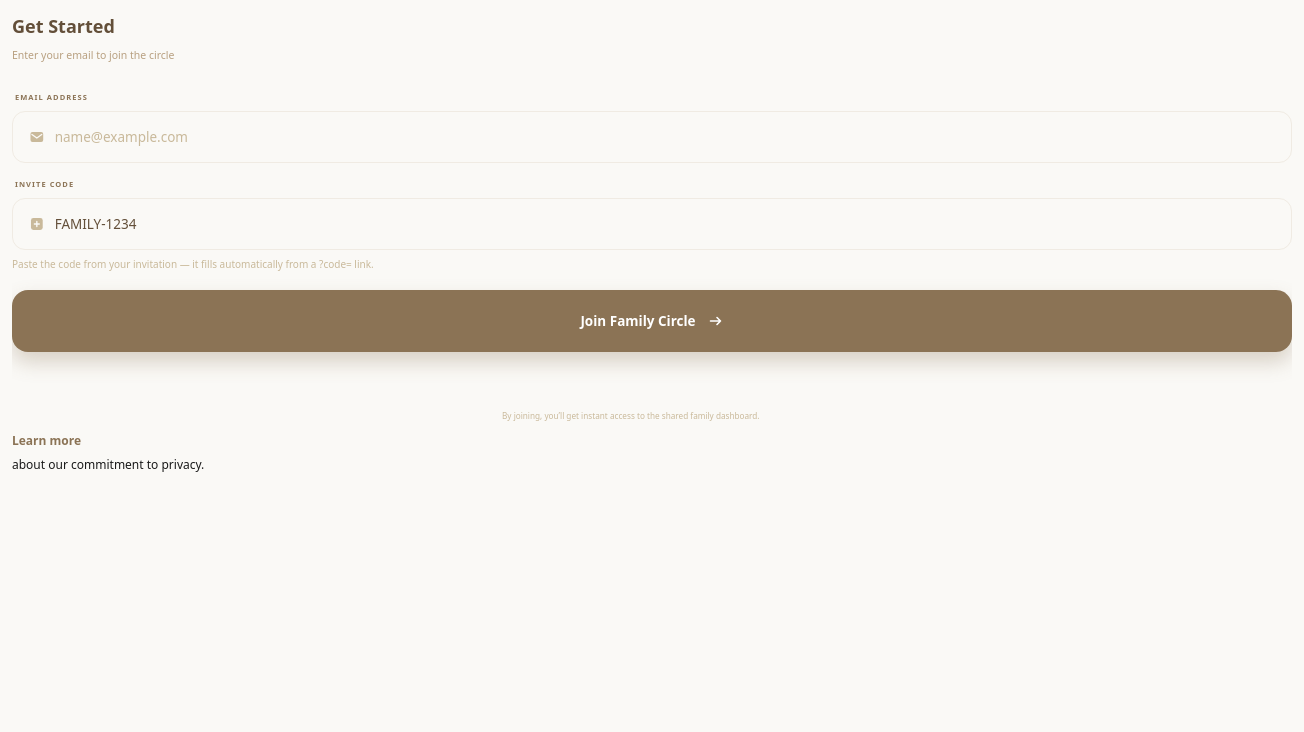
Test: JoinFamilyForm › submits successfully with a valid email and code
The image size is (1304, 732).
In the field labelled "EMAIL ADDRESS": (665, 137) x1=55 y1=112 x2=1275 y2=162, type "ada@example.com"
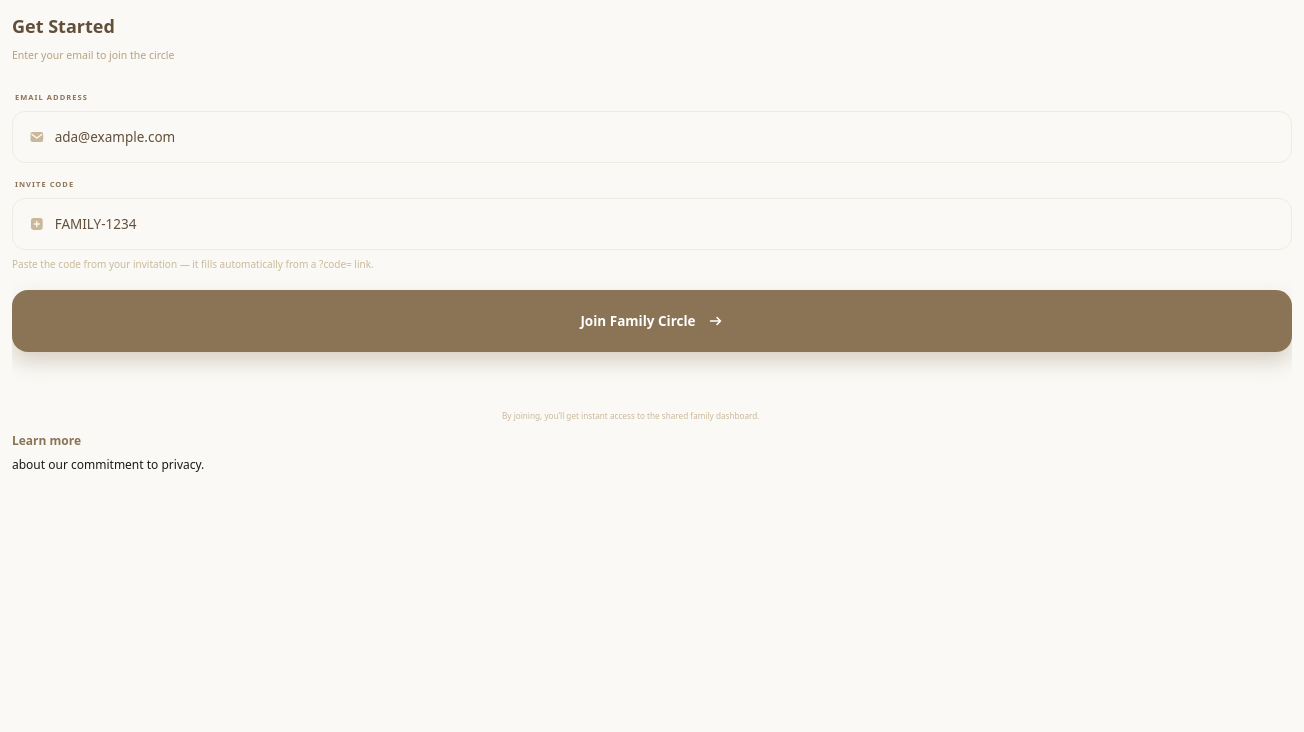
Click the button "Join Family Circle": (652, 321) x1=12 y1=290 x2=1292 y2=352
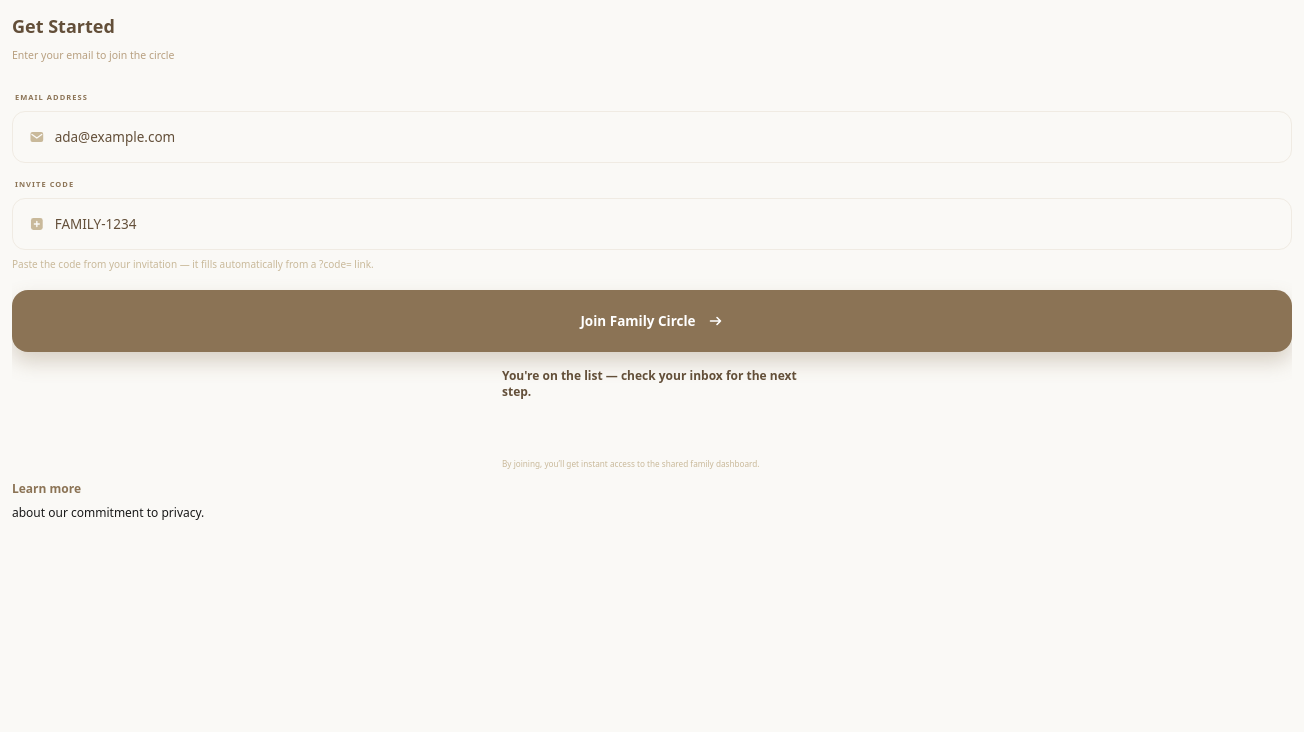
Check: the message shows "check your inbox", box x1=502 y1=367 x2=797 y2=400
